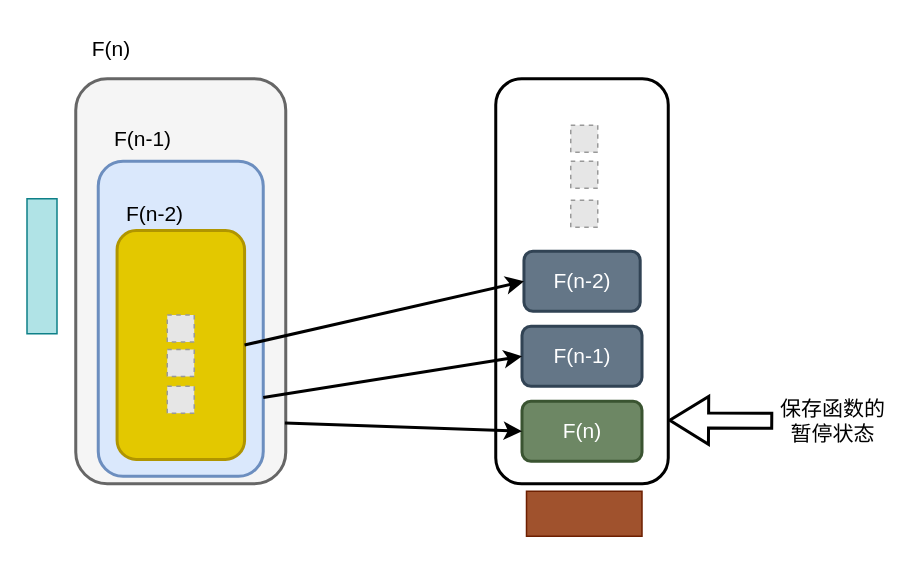
The diagram is 918 pixels wide and 563 high, and some of its shapes have lost their labels. Grey dashed boxes stand in for pictures. Here are the shapes that lost their labels. From the top down, the box of each, then its label:
(26, 197, 57, 334): 递归调用
(525, 490, 642, 536): 栈存储结构
